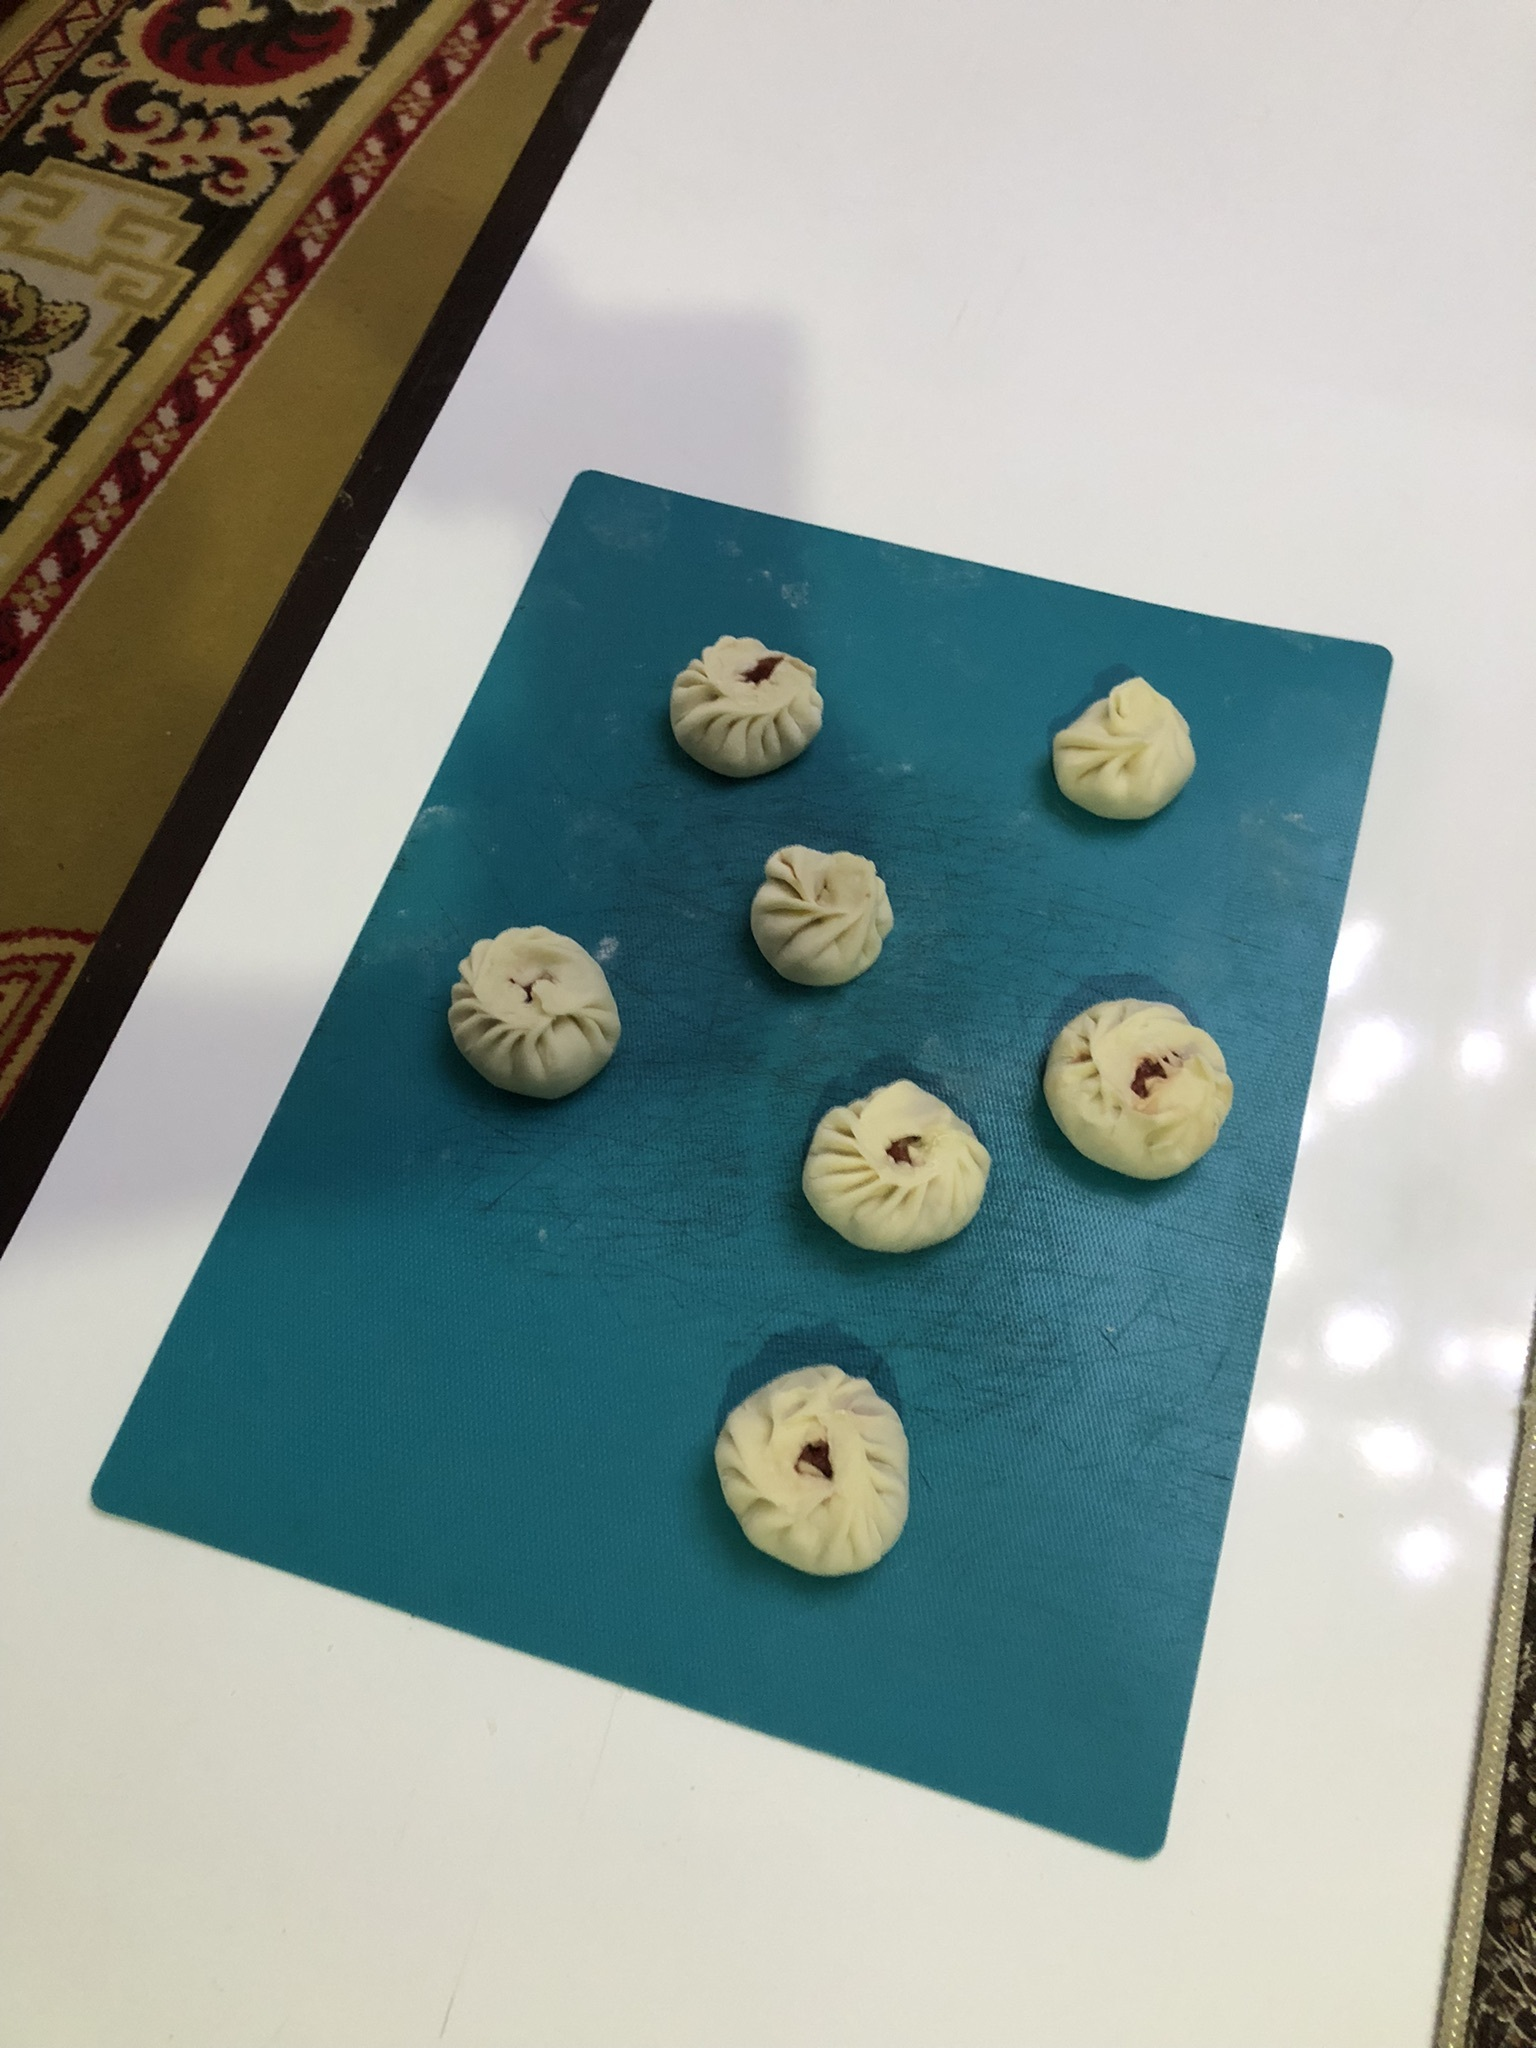buuz: (700, 1350, 926, 1593), (1033, 990, 1242, 1197), (787, 1071, 1004, 1271), (439, 914, 636, 1118), (655, 626, 842, 790), (1029, 668, 1208, 830), (737, 839, 904, 998)
